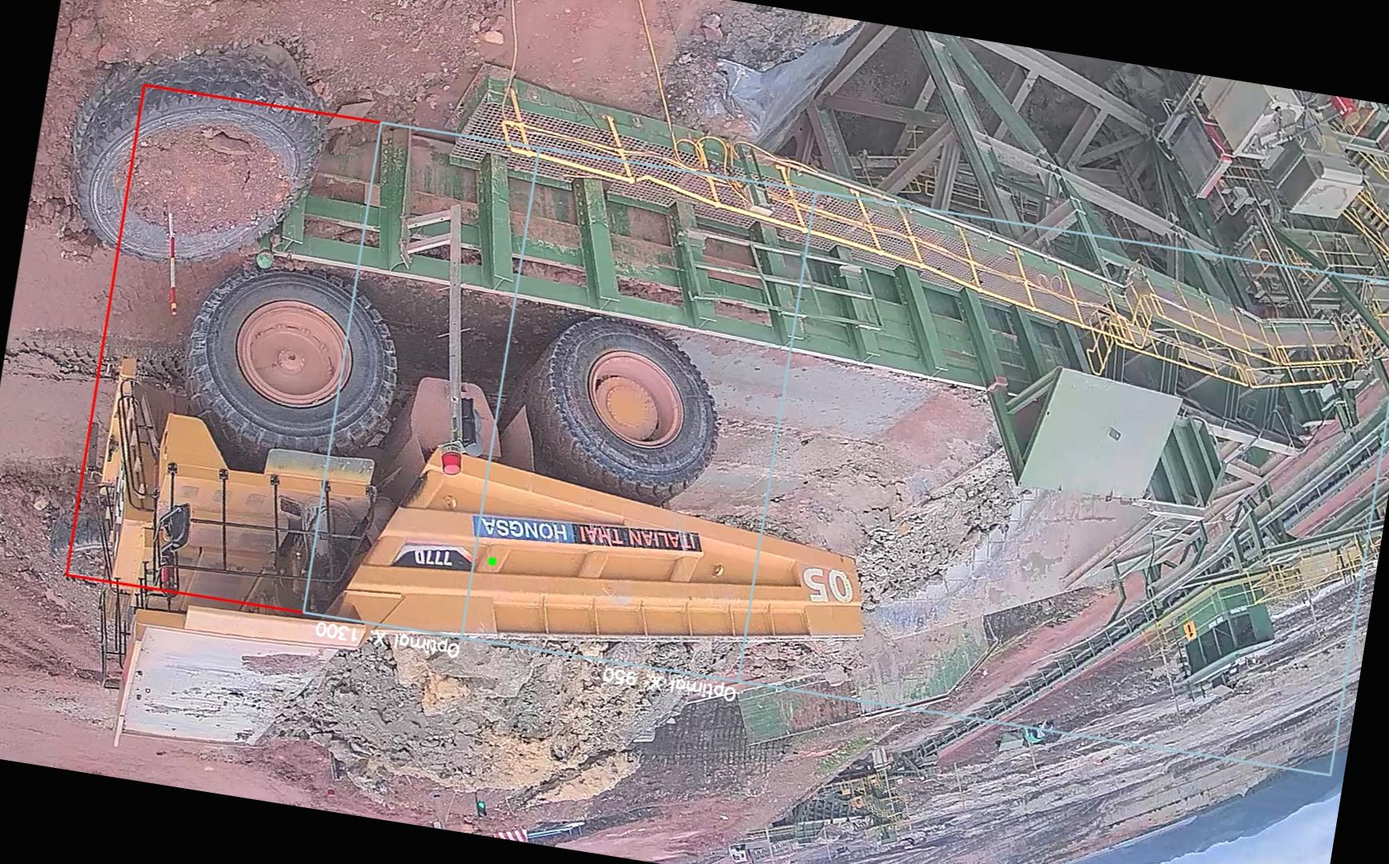company: (457, 488, 713, 580)
full_load: (316, 602, 708, 836)
mining_truck: (38, 242, 914, 864)
tail_number: (784, 548, 866, 619)
truck_size: (375, 531, 483, 586)
